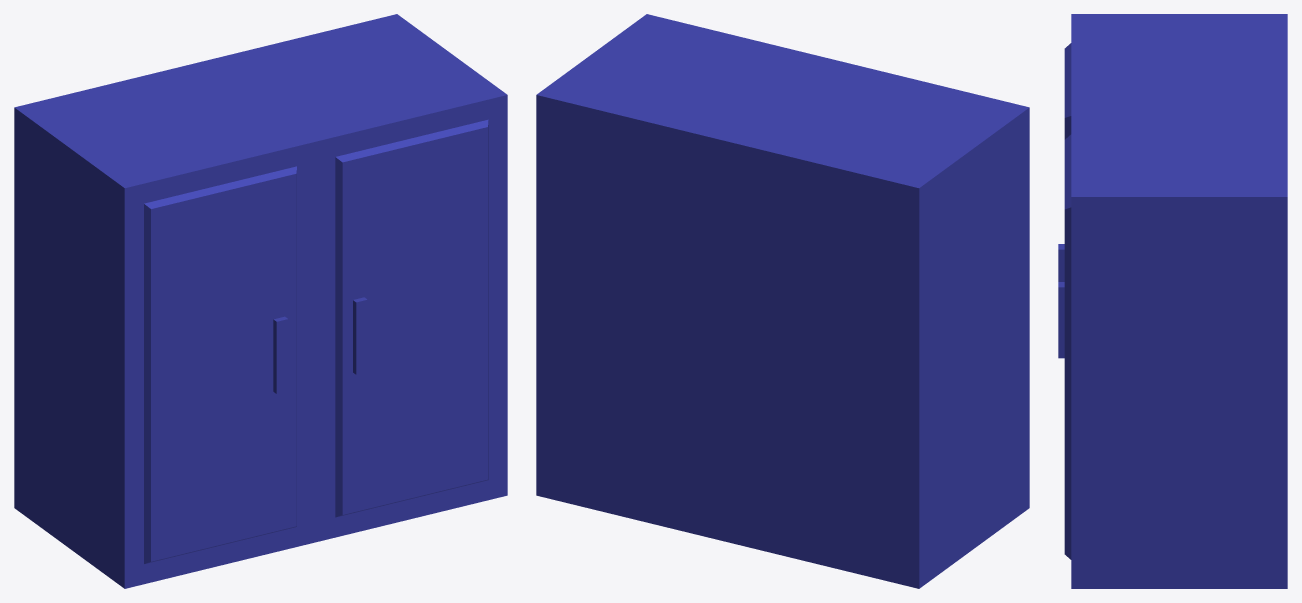
File: storageD_1x2x2.FBX
3 renders of one model, left to right at view 1: azimuth 30°, elevation 25°; view 2: azimuth 150°, elevation 25°; view 3: azimuth 270°, elevation 25°, orthographic. The views are drawn at different scales.
Parts seen in each view (by area): view 1: storageD_1x2x2; view 2: storageD_1x2x2; view 3: storageD_1x2x2.
Boxes of the visible parts, box(x1,y1,x2,y2) form: storageD_1x2x2: box(14, 14, 507, 588); storageD_1x2x2: box(536, 14, 1029, 588); storageD_1x2x2: box(1058, 14, 1287, 588).
Bounding box in the file's own units: 2 × 2 × 1.06.
